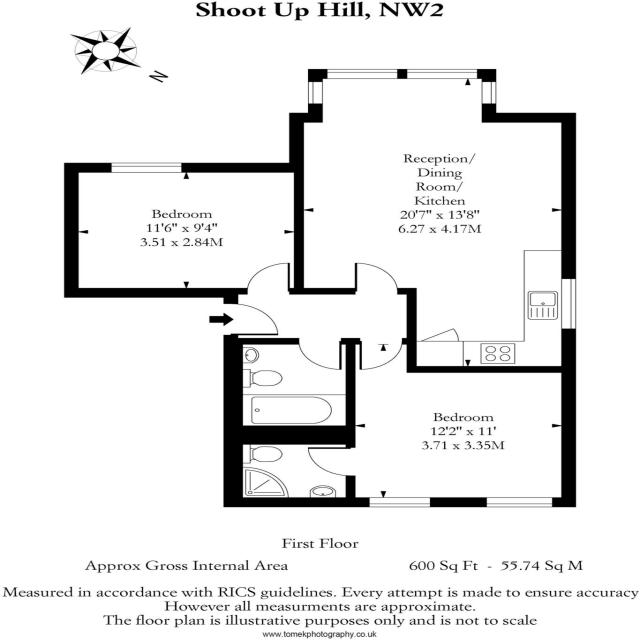DOOR: (224, 302, 283, 340), (306, 446, 356, 478), (245, 260, 292, 294), (297, 338, 343, 372), (353, 261, 400, 294), (359, 338, 405, 371)
ROOM: (288, 69, 576, 373), (303, 337, 576, 507), (64, 163, 304, 298)
WINDOW: (558, 277, 578, 330), (484, 496, 555, 509), (109, 162, 183, 174), (326, 68, 400, 80), (406, 68, 479, 80), (367, 496, 432, 509), (306, 80, 327, 106), (481, 81, 498, 104)
